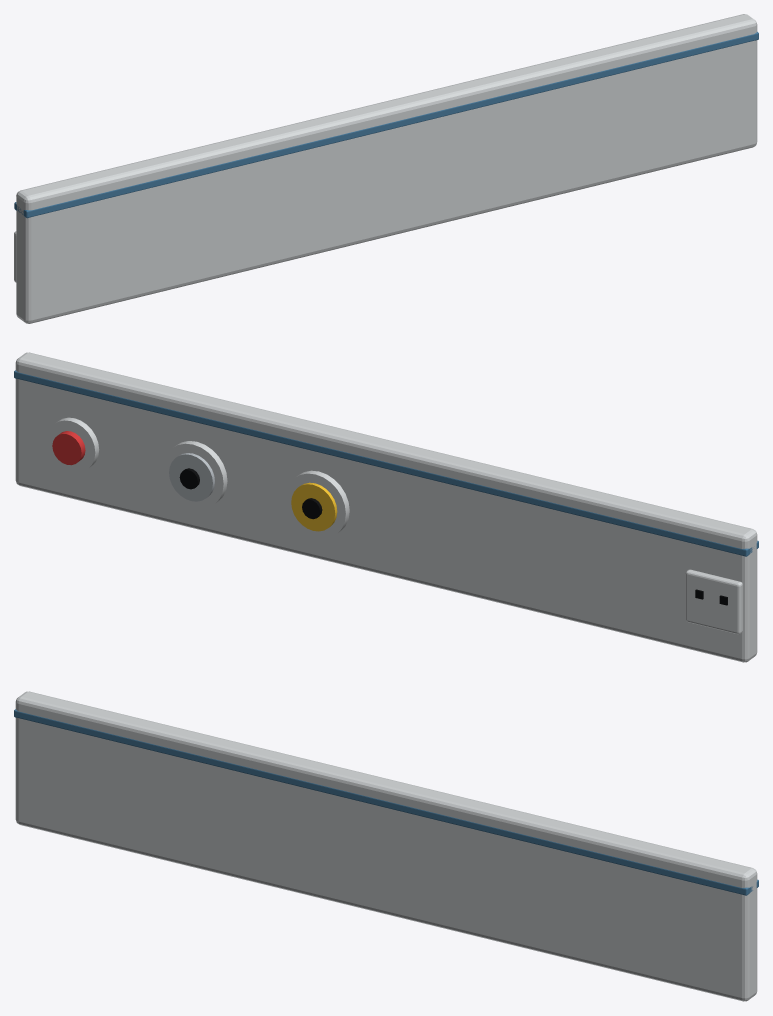
Rendered from Bed_Head_Unit.glb.
3 renders of one model, top to bottom at view 1: azimuth 30°, elevation 25°; view 2: azimuth 150°, elevation 25°; view 3: azimuth 330°, elevation 25°, orthographic.
Parts seen in each view (by area): view 1: Rail, RailStripe; view 2: Rail, RailStripe, SocketBox, OutletPlate, OutletPlate.001, OutletRing.001, OutletRing, NurseCallPlate, NurseCallButton; view 3: Rail, RailStripe.
Boxes of the visible parts, x1,y1,x2,y2 form: Rail: [16, 14, 757, 323]; RailStripe: [14, 31, 758, 218]; Rail: [15, 352, 757, 662]; RailStripe: [14, 370, 758, 556]; SocketBox: [685, 569, 742, 634]; OutletPlate: [284, 470, 349, 538]; OutletPlate.001: [162, 441, 227, 509]; OutletRing.001: [169, 453, 214, 501]; OutletRing: [291, 482, 337, 531]; NurseCallPlate: [46, 417, 99, 472]; NurseCallButton: [52, 431, 85, 465]; Rail: [15, 691, 757, 1001]; RailStripe: [14, 709, 758, 895].
Bounding box in the file's own units: 1.2 × 0.2 × 0.0585.
